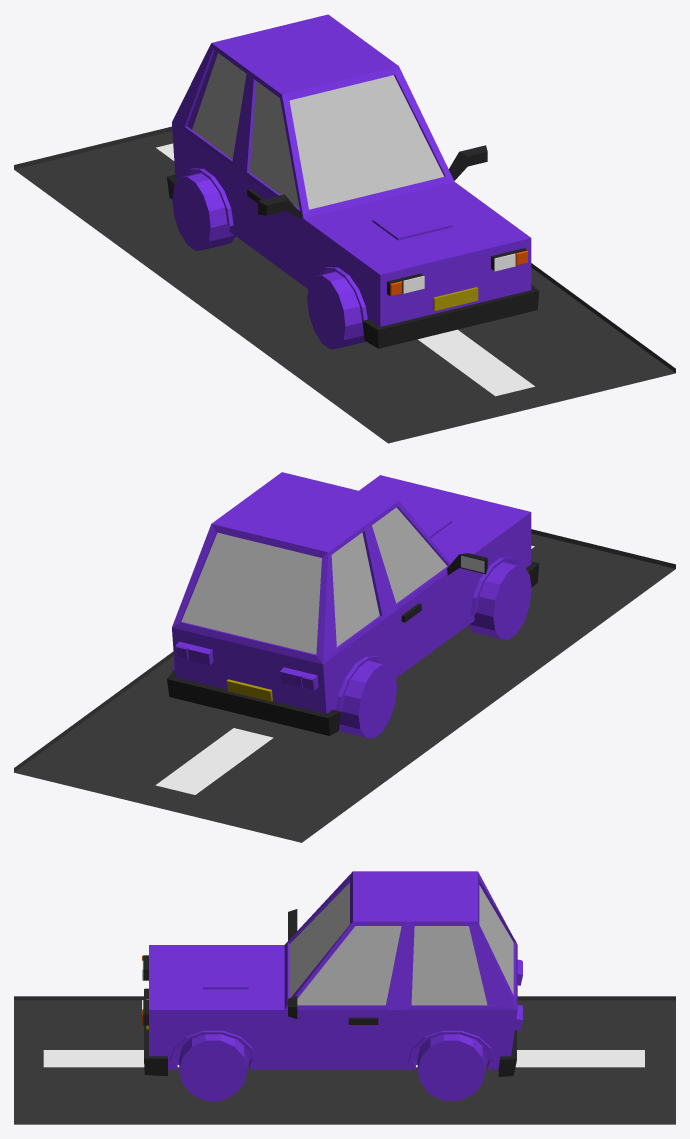
The model's file is CartoonCar.fbx.
The picture shows the model from 3 angles, top to bottom: view 1: azimuth 30°, elevation 25°; view 2: azimuth 150°, elevation 25°; view 3: azimuth 270°, elevation 25°; orthographic projection. The views are drawn at different scales.
Parts seen in each view (by area): view 1: Car Body, Plane, Back Tire Bool, Front Tire Bool; view 2: Car Body, Plane, Front Tire Bool, Back Tire Bool; view 3: Car Body, Plane, Front Tire Bool, Back Tire Bool, Front, Back.
Boxes of the visible parts, box(x1,y1,x2,y2) form: Car Body: box(167, 14, 539, 348); Plane: box(14, 126, 675, 443); Back Tire Bool: box(172, 172, 235, 250); Front Tire Bool: box(307, 271, 531, 349); Car Body: box(167, 472, 539, 735); Plane: box(14, 529, 675, 842); Front Tire Bool: box(468, 561, 531, 639); Back Tire Bool: box(172, 657, 396, 738); Car Body: box(142, 871, 522, 1076); Plane: box(14, 996, 675, 1124); Front Tire Bool: box(179, 1034, 247, 1100); Back Tire Bool: box(417, 1034, 485, 1100); Front: box(169, 1030, 256, 1062); Back: box(408, 1030, 495, 1062).
Bounding box in the file's own units: 761 × 475 × 1715.
